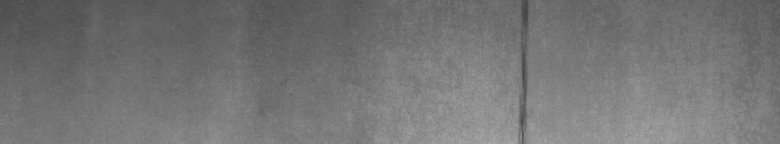hd: (512, 4, 533, 136)
